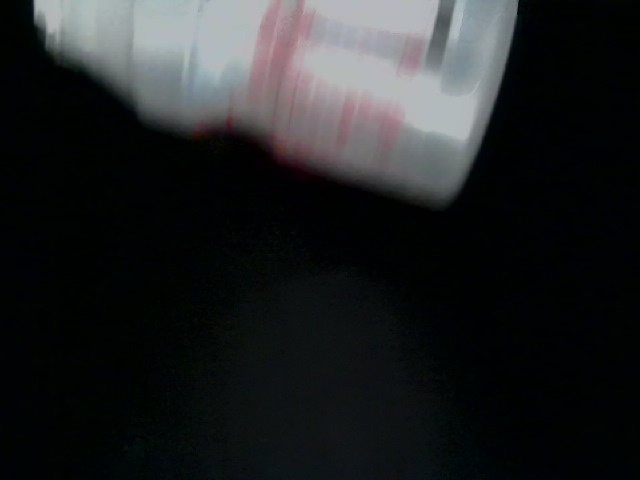CYLJ: (483, 312, 640, 479)
